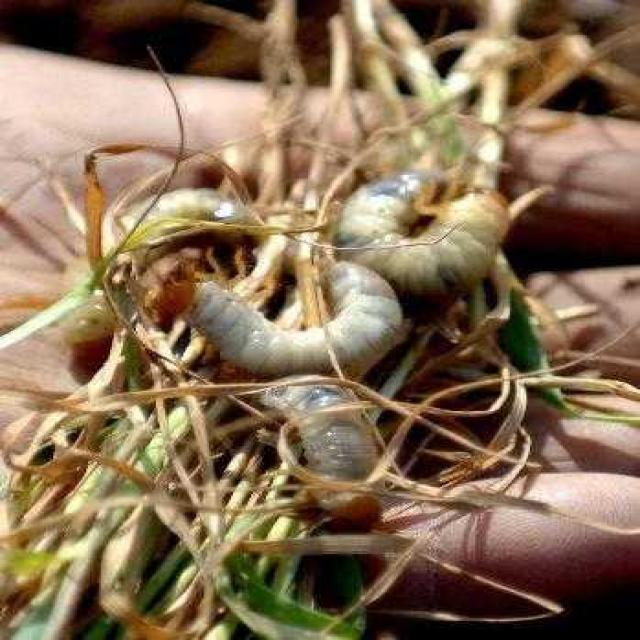Grub-Adult-: (154, 255, 409, 374), (342, 172, 516, 296), (255, 369, 397, 512)
